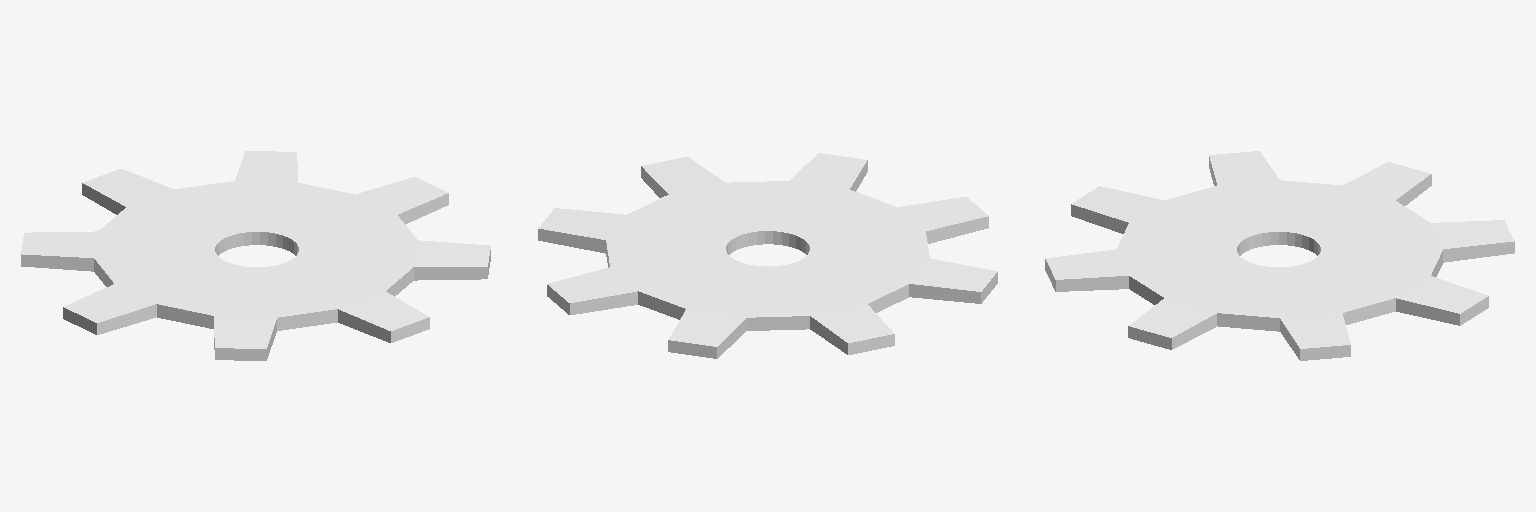
Rendered from shestern.obj.
The picture shows the model from 3 angles: view 1: azimuth 30°, elevation 25°; view 2: azimuth 150°, elevation 25°; view 3: azimuth 270°, elevation 25°; orthographic projection.
Visible parts, largest first — view 1: Cylinder001; view 2: Cylinder001; view 3: Cylinder001.
Part boxes in pixels (left/top/right/bottom): Cylinder001: left=21, top=151, right=490, bottom=360; Cylinder001: left=538, top=153, right=997, bottom=358; Cylinder001: left=1045, top=151, right=1514, bottom=360.
Bounding box in the file's own units: 153 × 4.84 × 153.